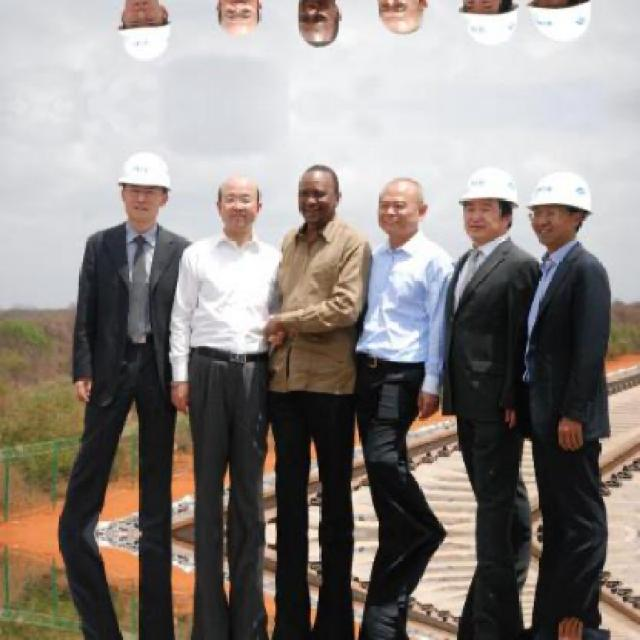helmet: (520, 169, 595, 251), (455, 163, 523, 242), (121, 149, 176, 225), (121, 0, 177, 62), (454, 0, 523, 48), (520, 0, 597, 42)
